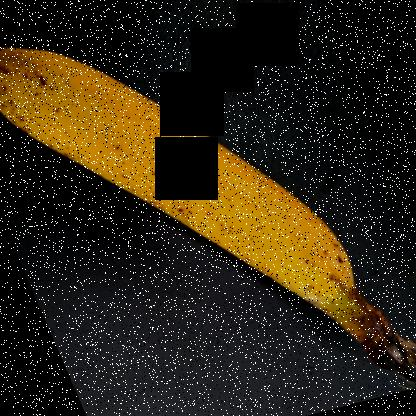ripe: (0, 38, 369, 302)
